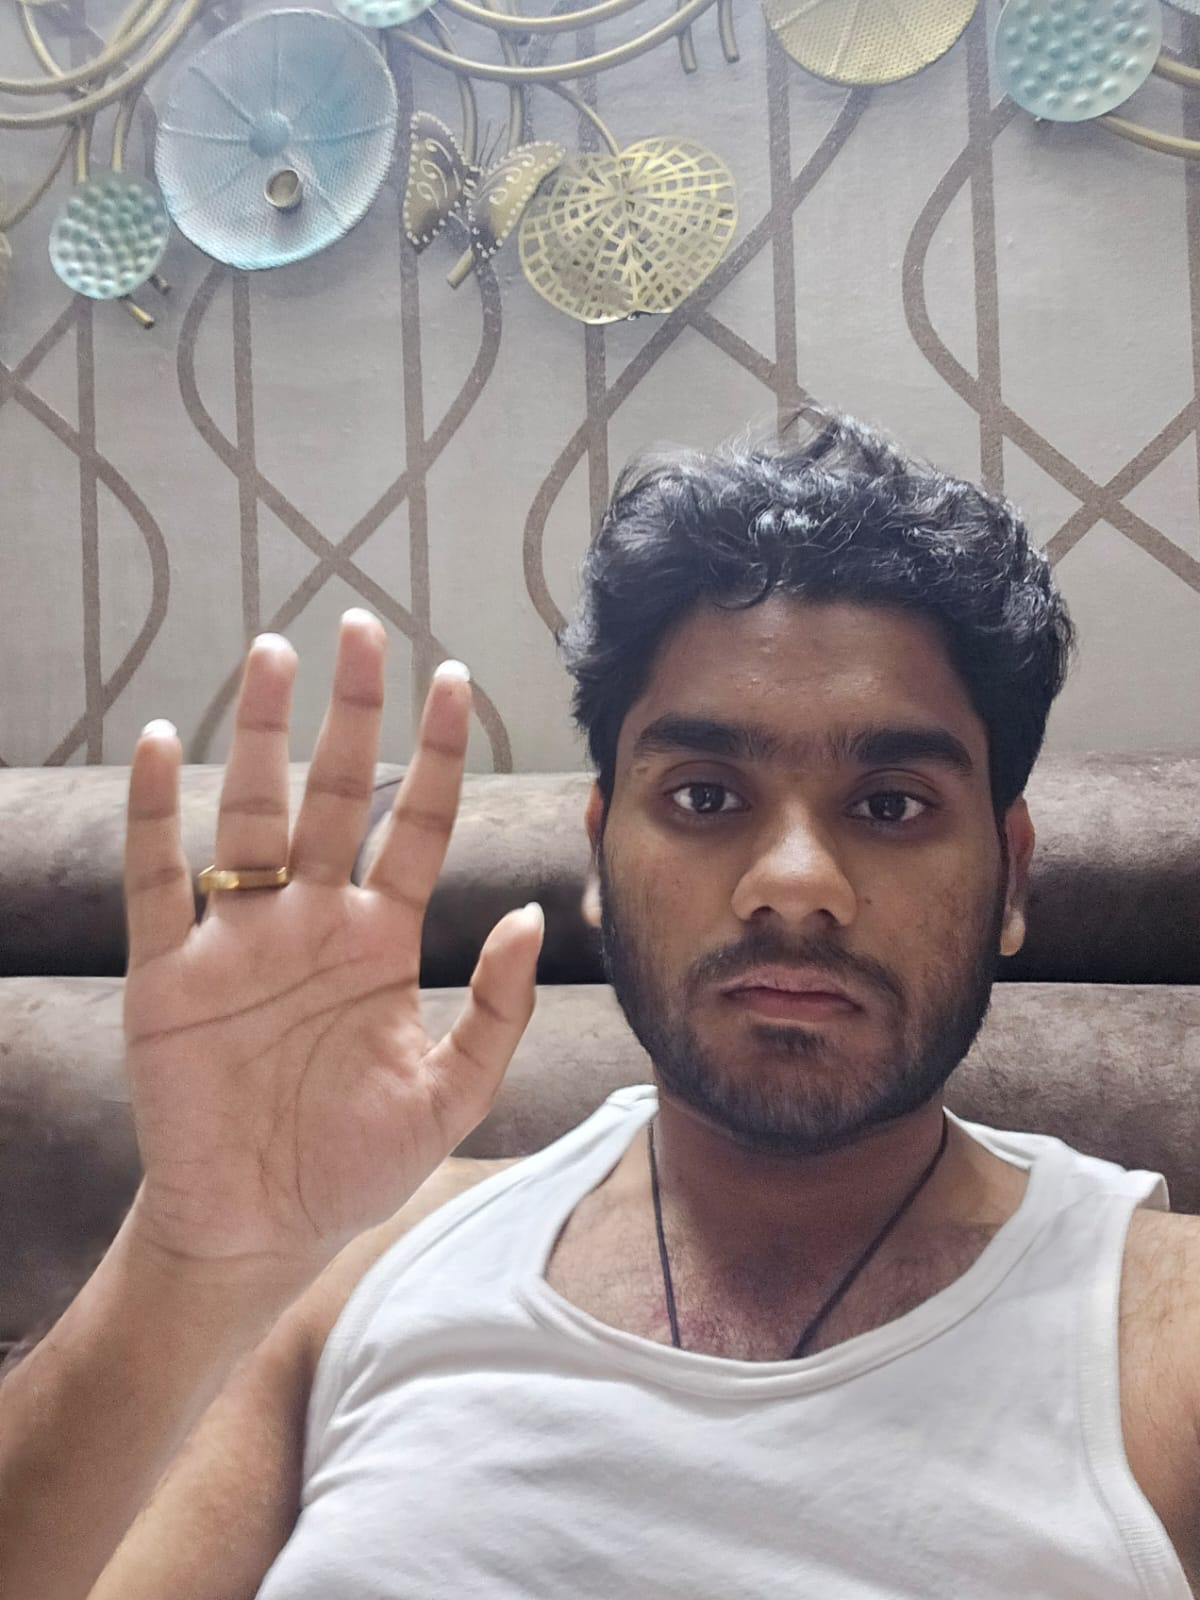hello: (118, 610, 545, 1275)
